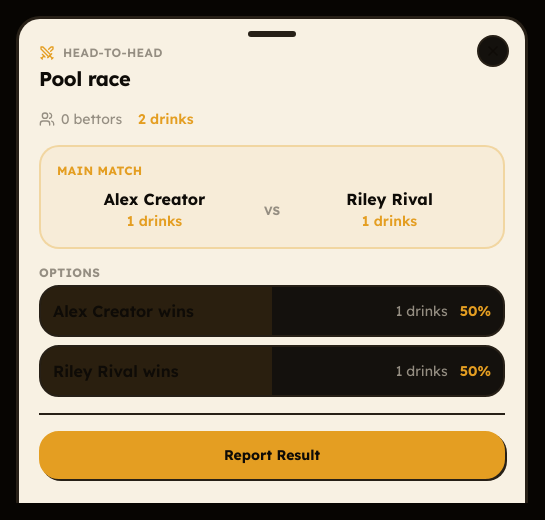
Scenario: BetDetailModal › leaves report-result mode when a different bet is opened
This screenshot has width=545, height=520.
Later steps or results of the test are not shown.
Click the button "Report Result".
click(272, 455)  # box [39,431,505,479]
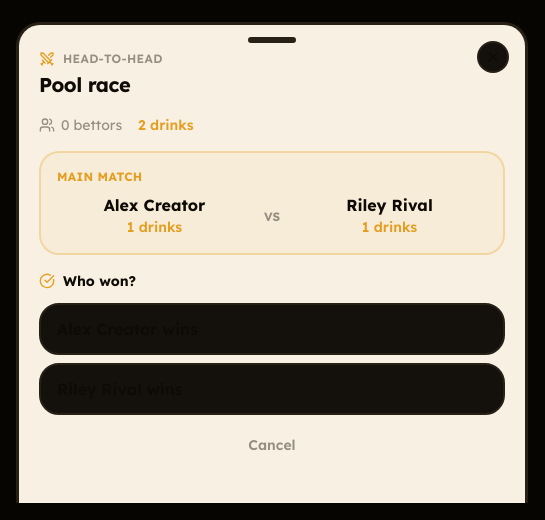
expect the text "Who won?" is shown: met, box [63,271,136,291]
